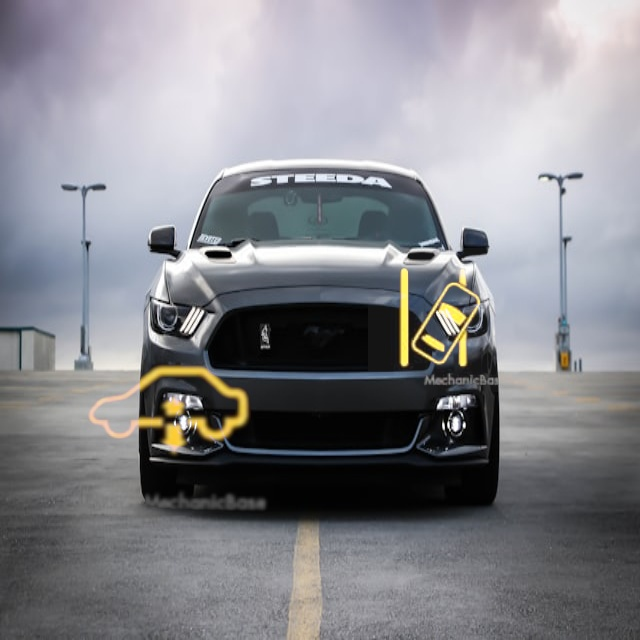symbol: (60, 306, 274, 520), (368, 248, 512, 392)
